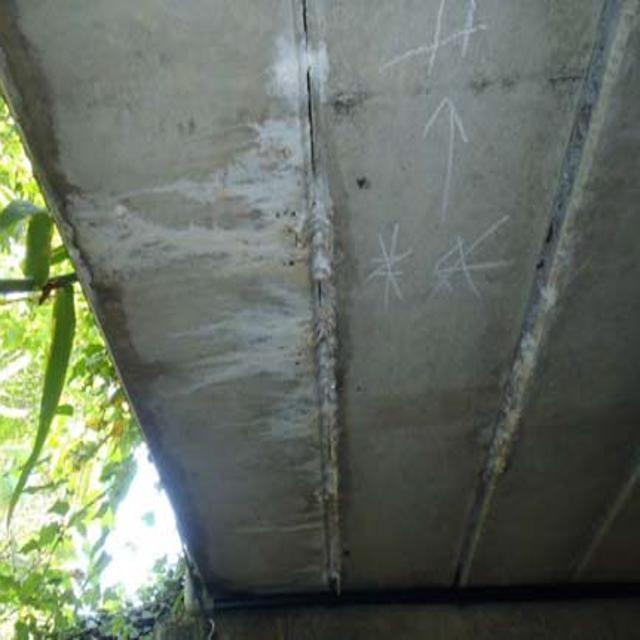freelime: (84, 43, 334, 523)
